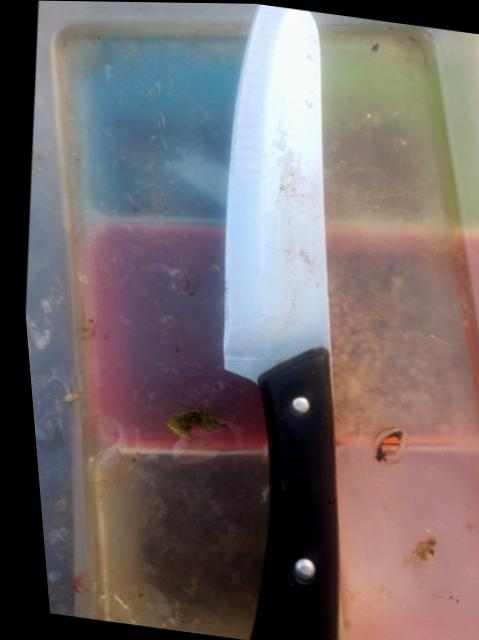Knife: (224, 5, 338, 639)
